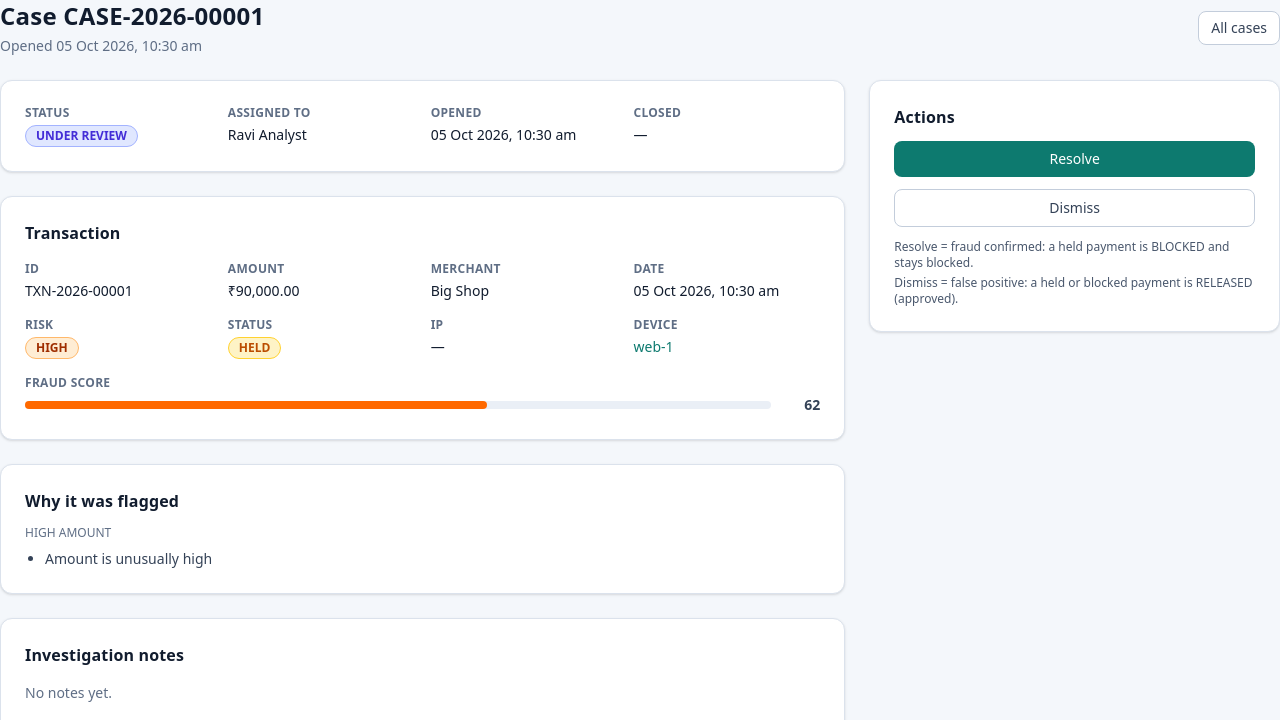
Test case: CaseDetail close dialog (N-06) › requires a summary before sending
Click the button "Resolve". click: coordinates (1075, 159)
box: [894,141,1255,177]
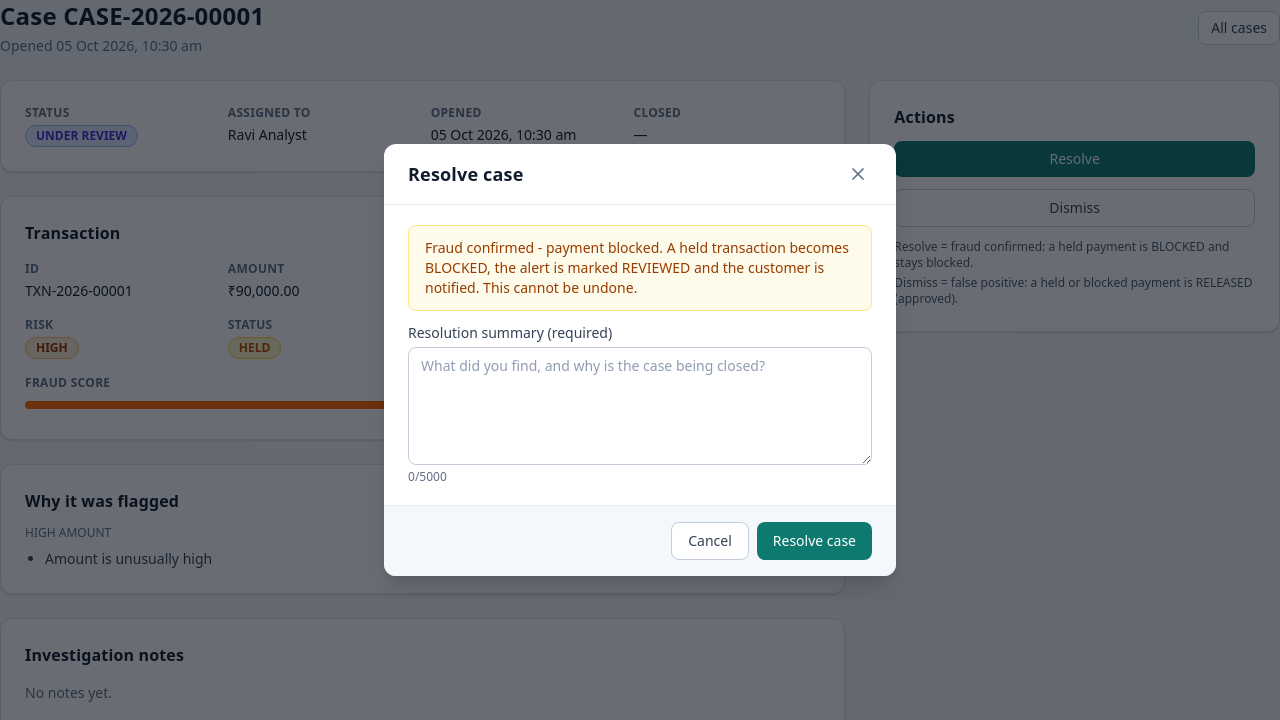
Click the button "Resolve case". click: coordinates (814, 541)
box: [757,522,872,560]
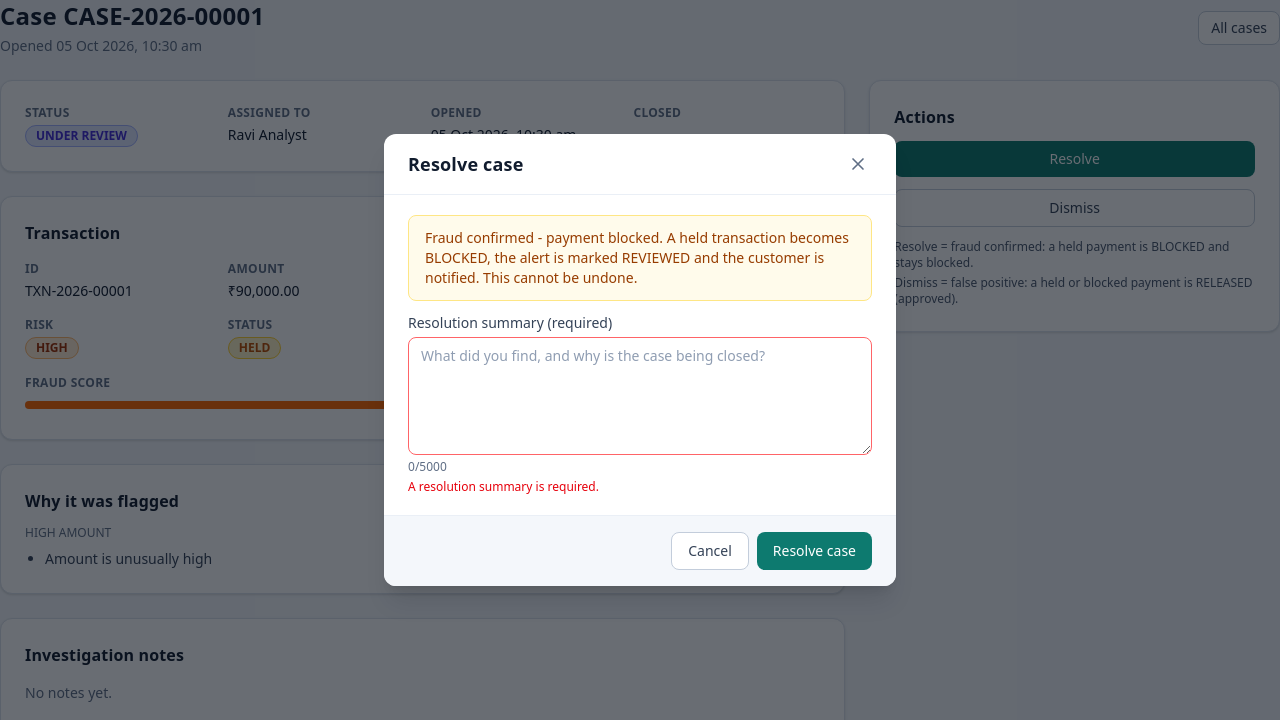
Expected: the text "A resolution summary is required." is shown, [408,478,599,495]
